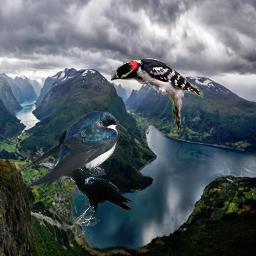Crow: (56, 160, 132, 226)
Swallow: (13, 111, 120, 189)
Woodpecker: (111, 57, 204, 133)
